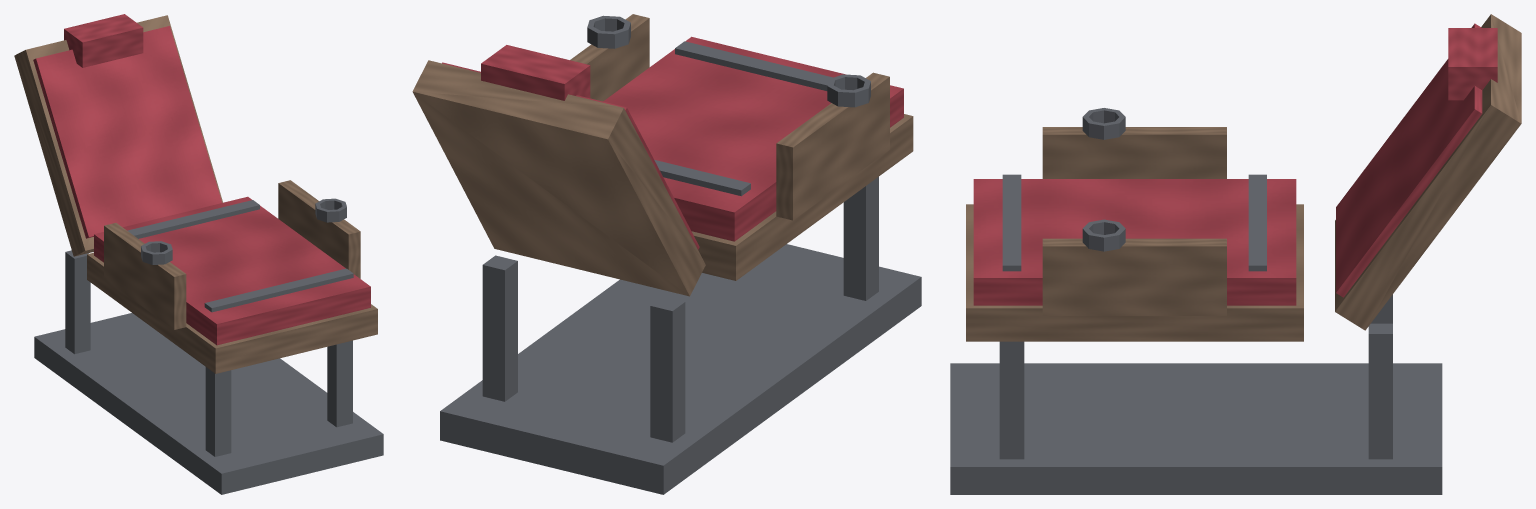
Rendered from vampire-crypt-and-gothic-cathedral-feeding-chair-3958f1fd__23033.glb.
3 renders of one model, left to right at view 1: azimuth 30°, elevation 25°; view 2: azimuth 150°, elevation 25°; view 3: azimuth 270°, elevation 25°, orthographic. The views are drawn at different scales.
Visible parts, largest first — view 1: feeding-chair; view 2: feeding-chair; view 3: feeding-chair.
Part boxes in pixels (bbox=[...]): feeding-chair: bbox=[14, 14, 383, 494]; feeding-chair: bbox=[412, 14, 921, 494]; feeding-chair: bbox=[950, 14, 1521, 494].
Size of the model in its own units: 0.9999 by 1.42 by 1.86.
3 materials, 2 textured.
